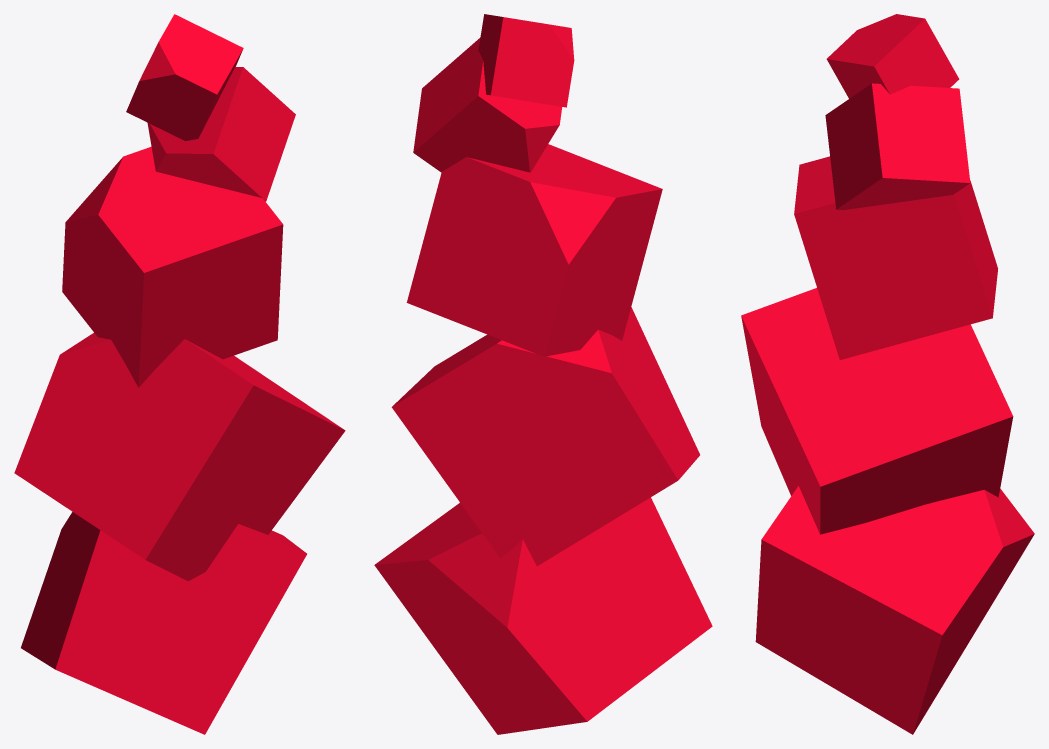
File: CubRock006.FBX
3 renders of one model, left to right at view 1: azimuth 30°, elevation 25°; view 2: azimuth 150°, elevation 25°; view 3: azimuth 270°, elevation 25°, orthographic. The views are drawn at different scales.
Parts seen in each view (by area): view 1: RockPile041, RockPile040, RockPile042, RockPile039, RockPile043; view 2: RockPile040, RockPile041, RockPile042, RockPile039, RockPile043; view 3: RockPile041, RockPile040, RockPile042, RockPile039, RockPile043.
Boxes of the visible parts, x1,y1,x2,y2 form: RockPile041: (14, 333, 345, 581); RockPile040: (21, 512, 306, 734); RockPile042: (62, 146, 283, 387); RockPile039: (147, 67, 295, 201); RockPile043: (126, 14, 243, 141); RockPile040: (374, 497, 712, 734); RockPile041: (391, 307, 699, 566); RockPile042: (406, 144, 662, 356); RockPile039: (413, 38, 562, 172); RockPile043: (478, 14, 574, 107); RockPile041: (741, 288, 1013, 534); RockPile040: (755, 486, 1034, 734); RockPile042: (794, 156, 997, 359); RockPile039: (825, 83, 970, 210); RockPile043: (826, 14, 959, 98).
Size of the model in its own units: 73.51 by 175 by 65.37.
